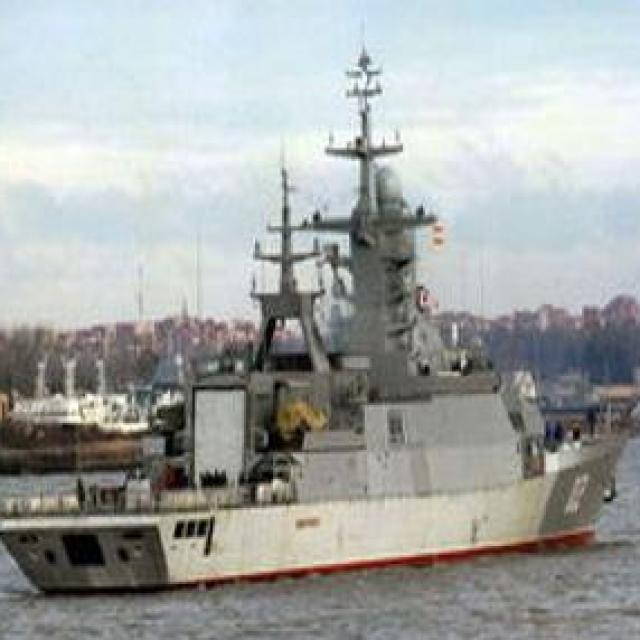navalvessels: (0, 31, 625, 592)
